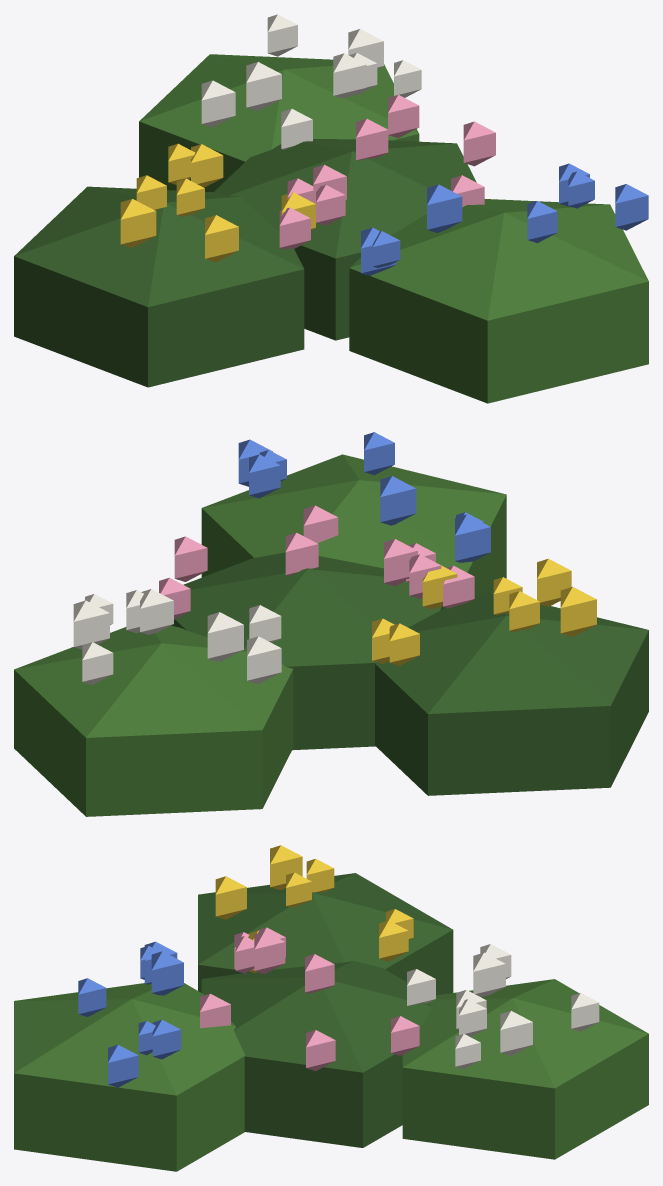
Rendered from flower_patch_spring.glb.
3 views of the same model, one above another, from view 1: azimuth 30°, elevation 25°; view 2: azimuth 150°, elevation 25°; view 3: azimuth 270°, elevation 25° (orthographic). The views are drawn at different scales.
Parts seen in each view (by area): view 1: flower_patch_spring; view 2: flower_patch_spring; view 3: flower_patch_spring.
Boxes of the visible parts, x1,y1,x2,y2 form: flower_patch_spring: (14,14,648,403); flower_patch_spring: (14,432,648,816); flower_patch_spring: (14,845,648,1171).
Size of the model in its own units: 2.31 by 0.8673 by 2.77.
